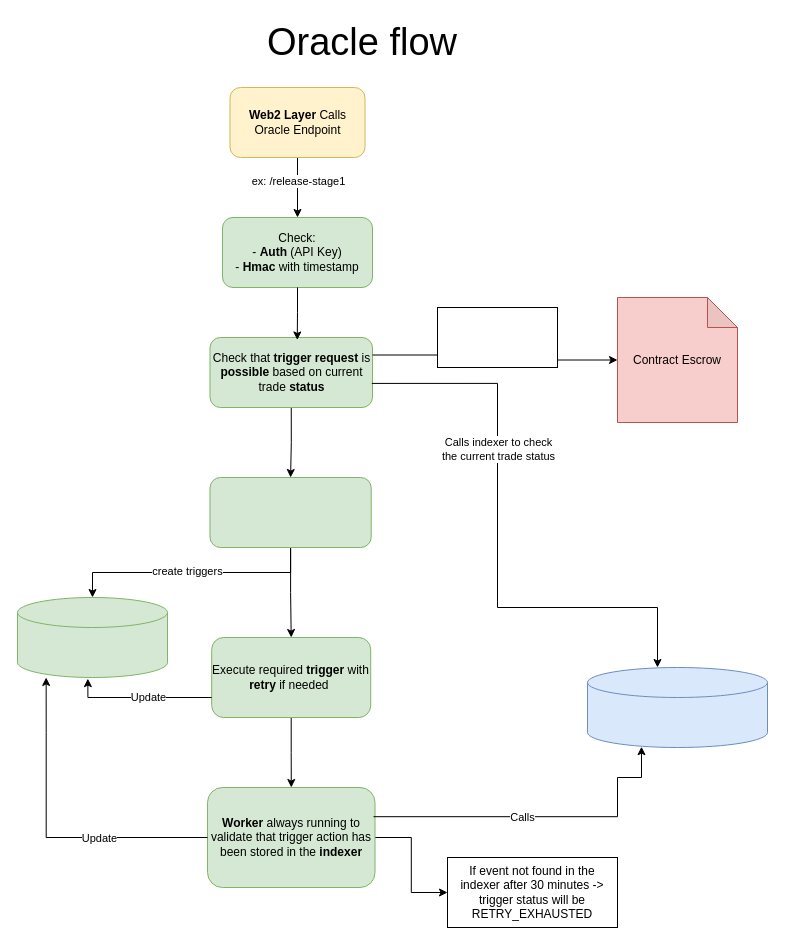
This 785x945 diagram has some shape labels left out. The centre of each missing label's shape, as x and y in pixels:
"Generate Idempotency key (tradeId X Action required)" goes at pixel 290 512.
"If indexer is not working, calls the contract to check trade status" goes at pixel 497 337.
"Indexer API" goes at pixel 677 707.
"Oracle DB" goes at pixel 92 637.
